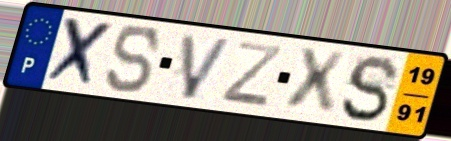S: (337, 53, 402, 125), (103, 23, 163, 95)
V: (180, 31, 236, 102)
X: (40, 14, 118, 92), (282, 46, 350, 118)
Z: (218, 38, 286, 110)
